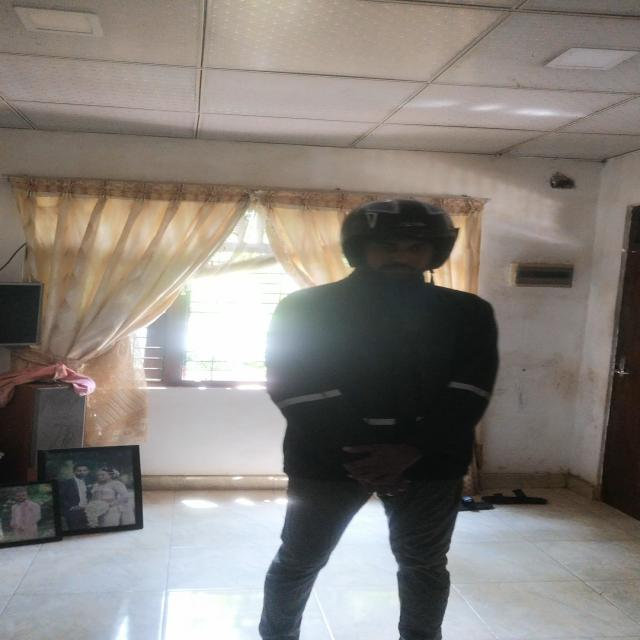Helmet_Wearer: (326, 195, 458, 290)
Jacket_Wearer: (252, 281, 499, 488)
Person: (250, 199, 504, 640)
